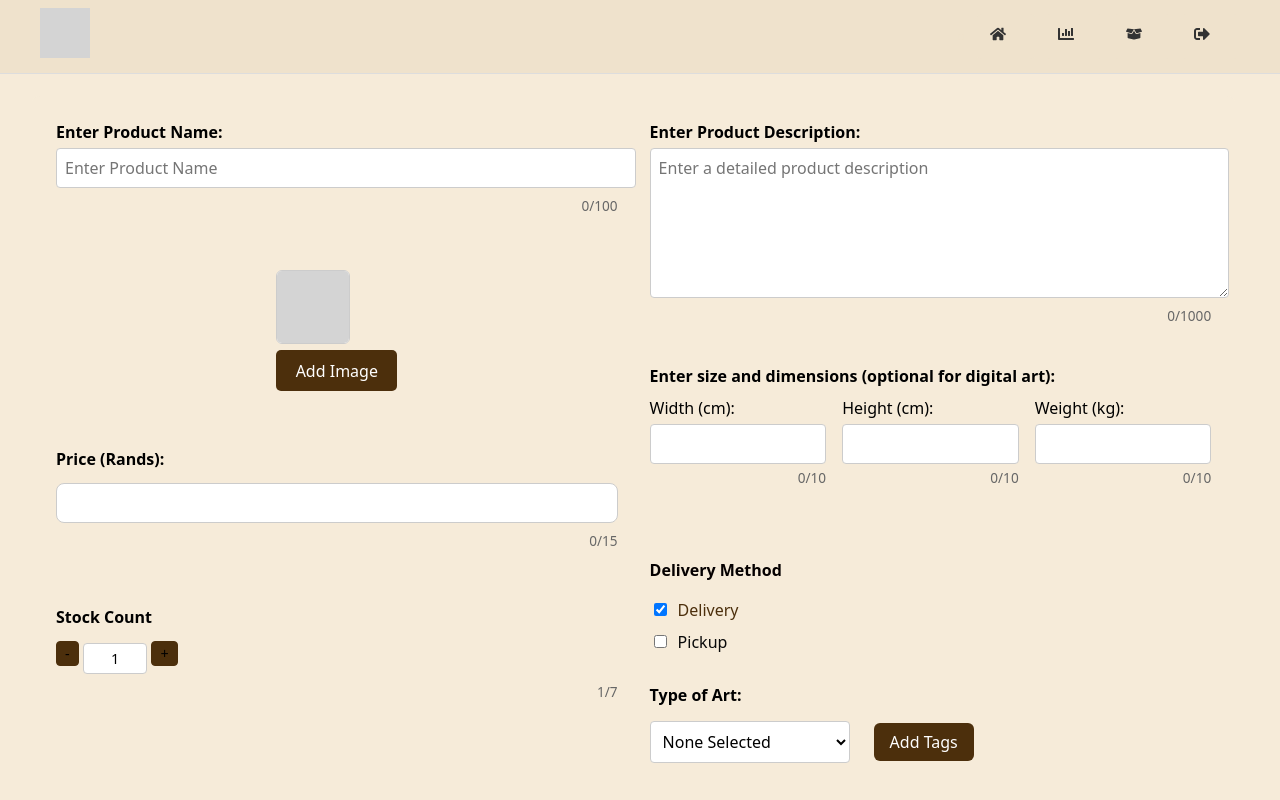
Test case: AddProductPage Functional Tests › increment button increases stock count
Click the button "+". click: coordinates (164, 654)
box: [151, 641, 178, 666]
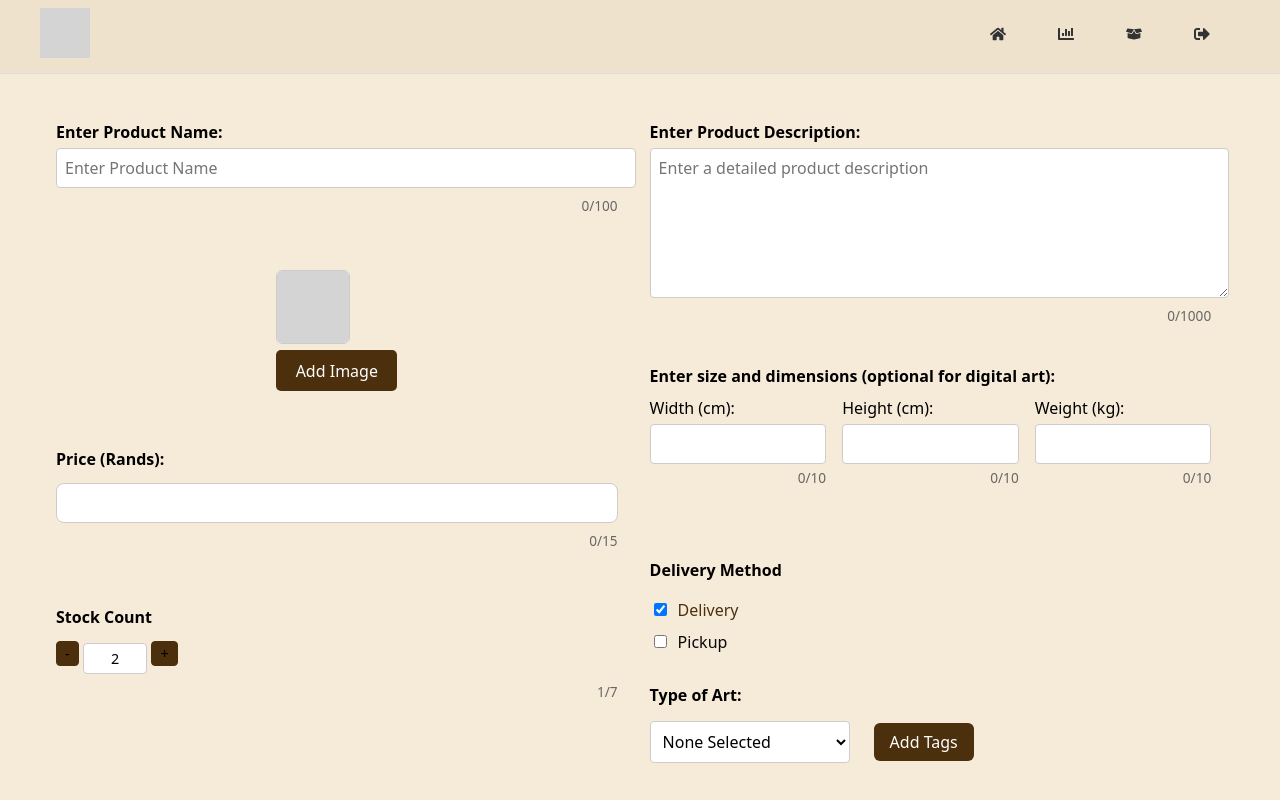
Expected: the field labelled "Stock Count" holds "2", [83, 643, 147, 674]
